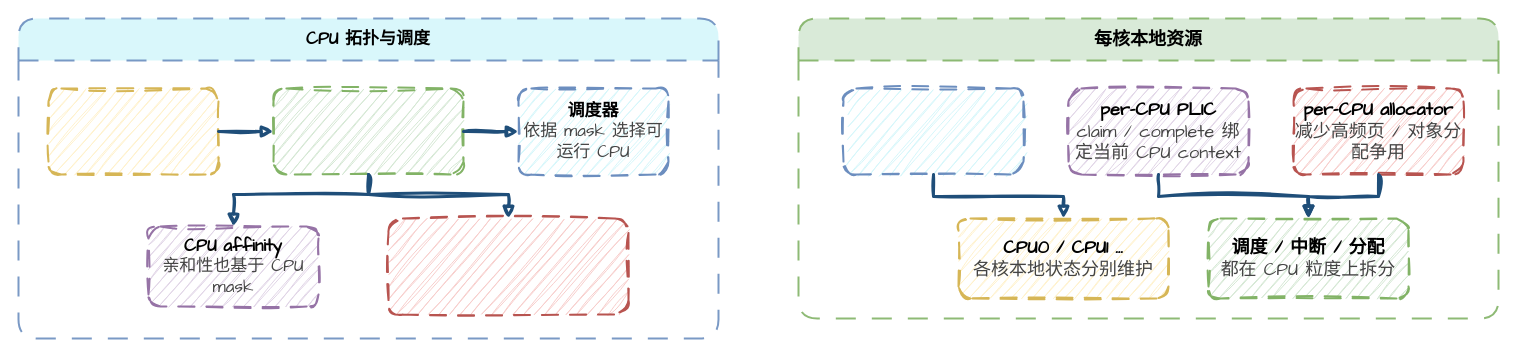
Image size: 1516x356. Some labels were removed from this diagram. The shapes that lost their labels are listed below. From the top down, each one's box as (x1, y1, x2, y2) in pixels, then its label:
(47, 87, 219, 175): DTB / CPU(hart) 统一识别 QEMU 与真板
(272, 87, 464, 175): possible / online mask 只把 online CPU 交给调度与 IPI
(842, 87, 1024, 175): per-CPU state current、irq depth、timeslice 各核独立
(387, 217, 629, 315): /proc/cpuinfo / sys/cpu 用户态 CPU 信息也由 online / possible 生成
